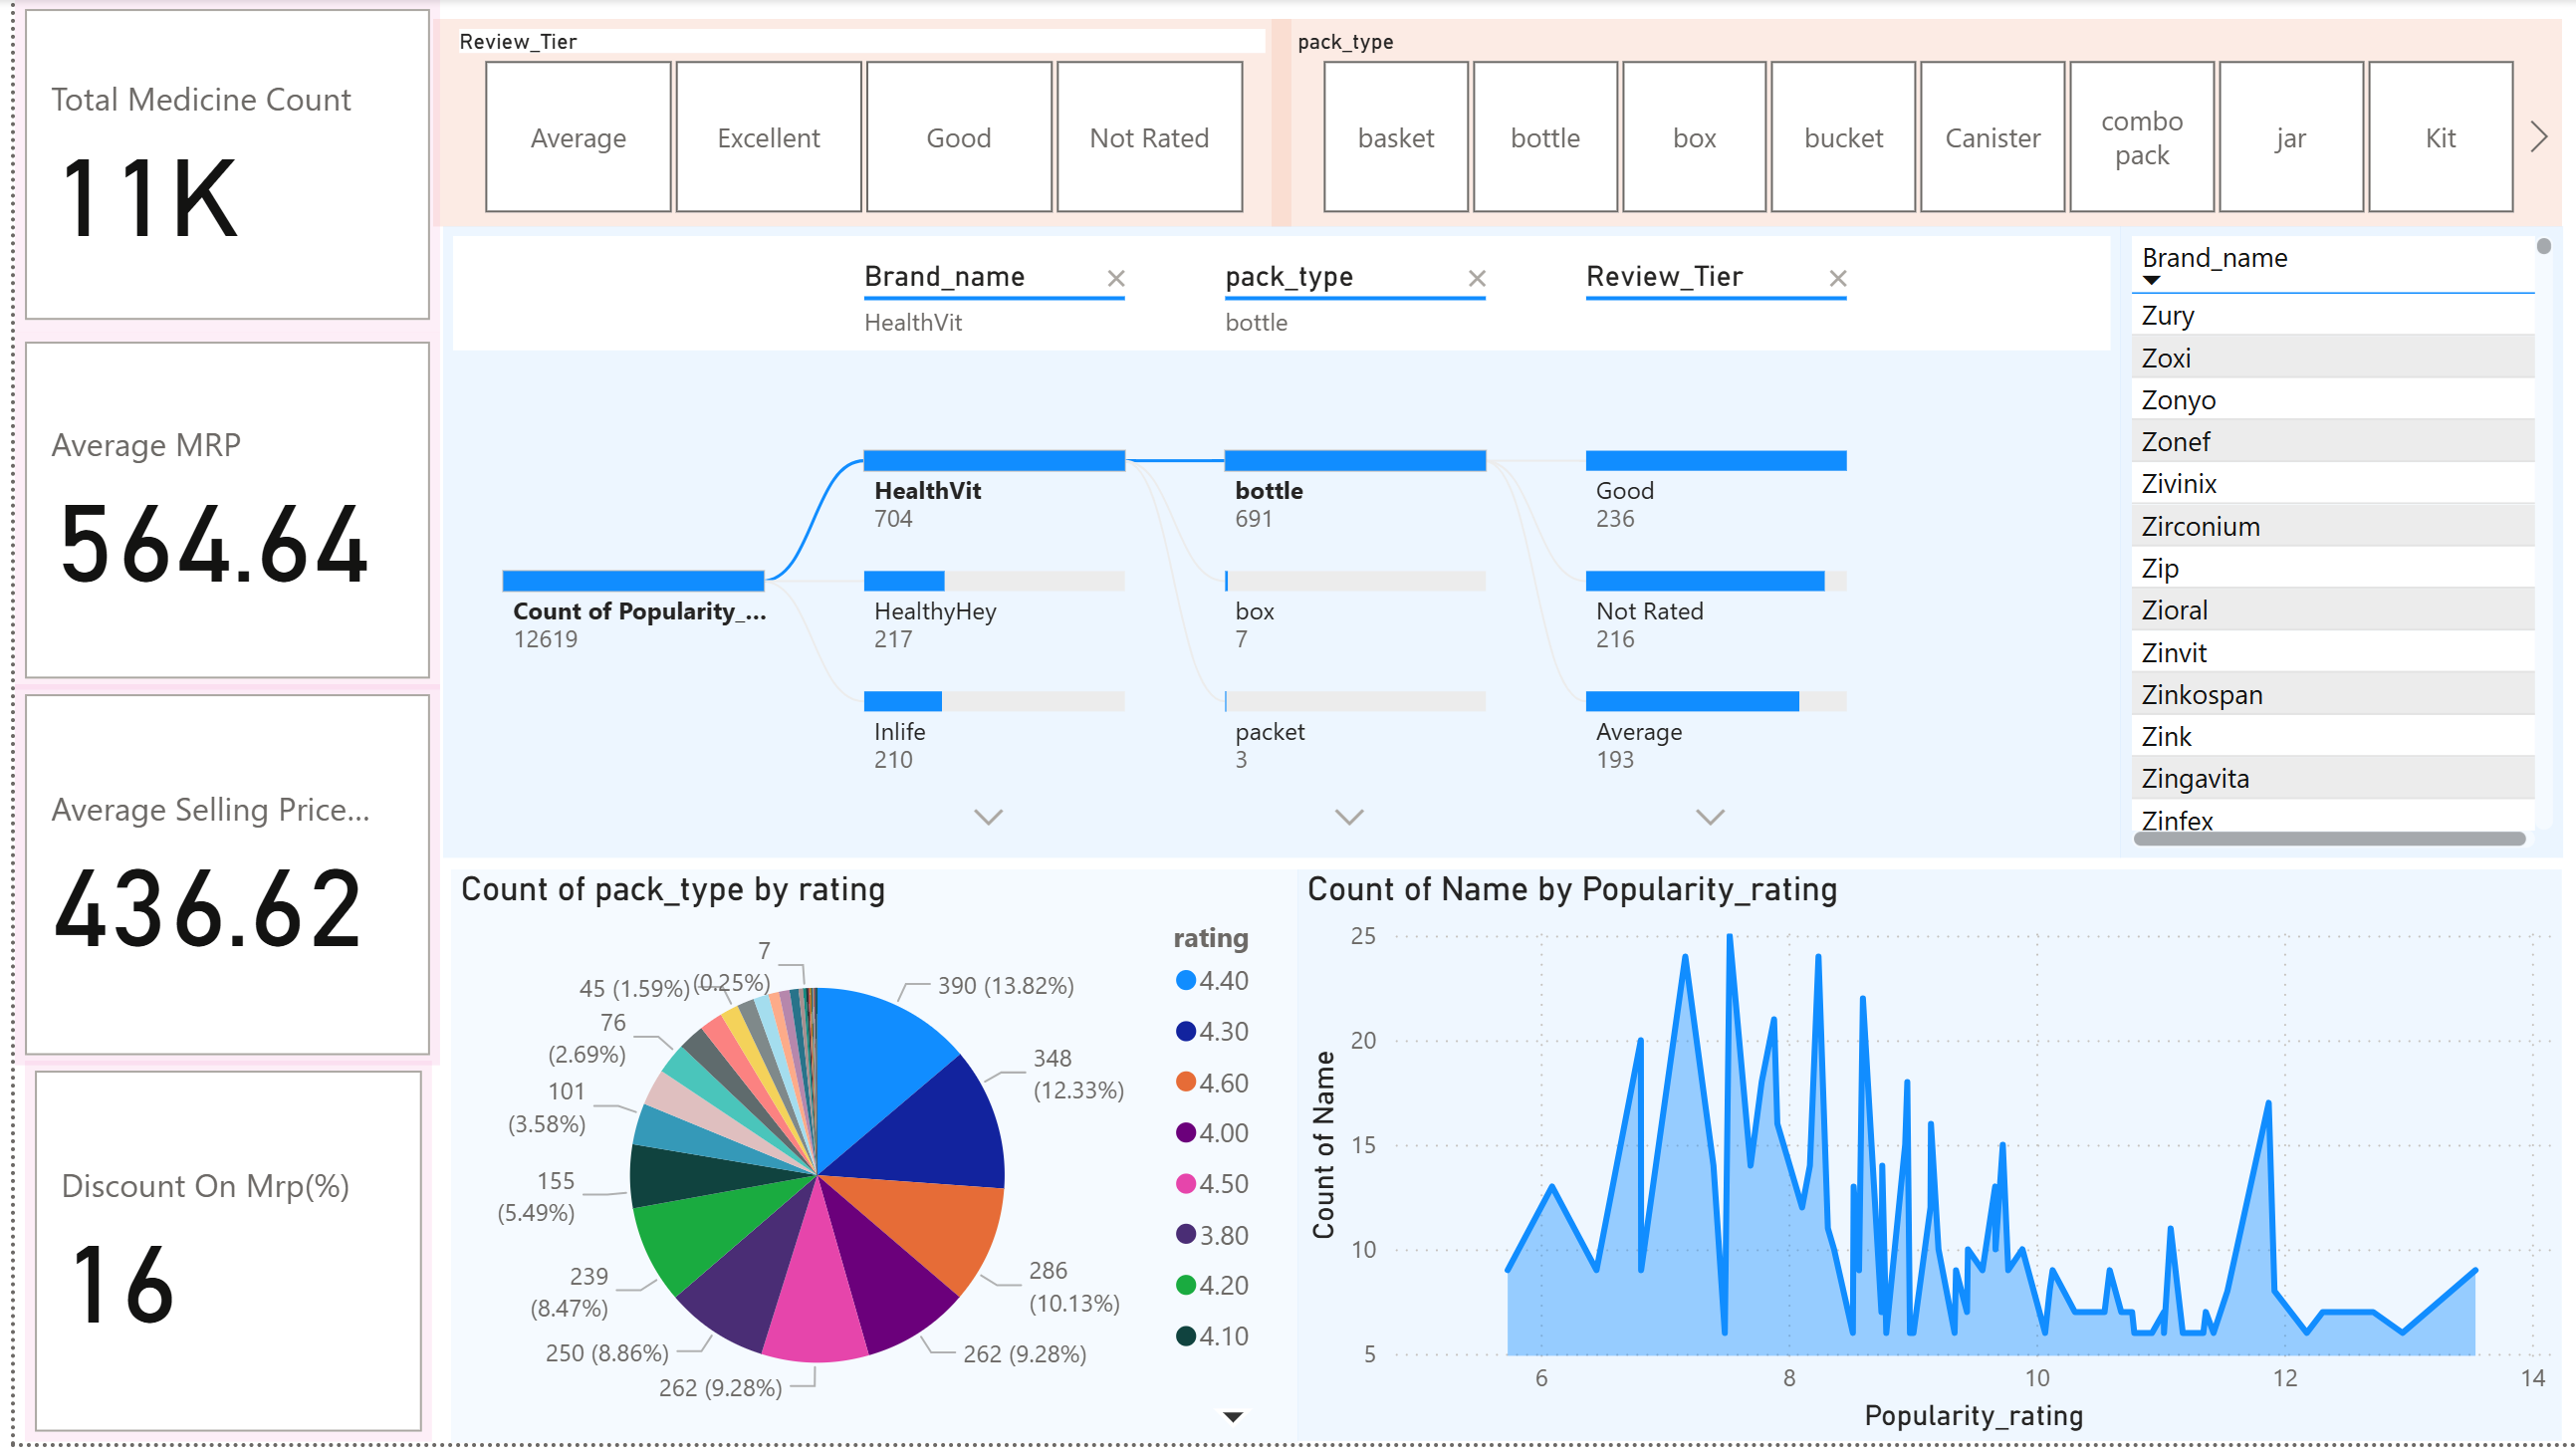

The page's visual inventory and layout, read from the dashboard file:
{"tool":"powerbi","page":{"name":"Page 1","canvas":[1280,720],"ordinal":0},"visuals":[{"type":"cardVisual","fields":{"Data":["1mgData.Average MRP"]},"box":[0,165.8,212,178.6],"z":0},{"type":"cardVisual","fields":{"Data":["1mgData.Average Selling Price new"]},"box":[0,341.8,212,190.2],"z":1000},{"type":"cardVisual","fields":{"Data":["1mgData.Discount On Mrp"]},"box":[5.1,529.5,203.1,190.2],"z":2000},{"type":"slicer","fields":{"Values":["1mgData.Review_Tier"]},"box":[208.9,9.9,427.8,103.4],"z":3000},{"type":"slicer","fields":{"Values":["1mgData.pack_type"]},"box":[626.8,9.9,643.3,103.4],"z":4000},{"type":"cardVisual","fields":{"Data":["1mgData.tm"]},"box":[0,0,212,165.8],"z":5000},{"type":"decompositionTreeVisual","fields":{"Analyze":["CountNonNull(1mgData.Popularity_rating)"],"ExplainBy":["1mgData.Brand_name","1mgData.pack_type","1mgData.Review_Tier"]},"box":[213.3,113.1,836.6,314.9],"z":6000},{"type":"pieChart","fields":{"Category":["1mgData.rating"],"Y":["CountNonNull(1mgData.pack_type)"]},"box":[217.7,434.4,422.3,285.9],"z":7000},{"type":"areaChart","fields":{"Category":["1mgData.Popularity_rating"],"Y":["Count(1mgData.Name)"]},"box":[639.6,434,630.6,285],"z":8000},{"type":"tableEx","fields":{"Values":["1mgData.Brand_name"]},"box":[1050,113.1,221,314.9],"z":9000}]}

Visuals, with their boxes in screenshot pixels (x1, y1, x2, y2), scaled from the page's 1280x720 canvas onto the 2576x1454 screenshot:
cardVisual - 1mgData.Average MRP: {"x1": 0, "y1": 335, "x2": 426, "y2": 695}
cardVisual - 1mgData.Average Selling Price new: {"x1": 0, "y1": 690, "x2": 426, "y2": 1075}
cardVisual - 1mgData.Discount On Mrp: {"x1": 10, "y1": 1070, "x2": 419, "y2": 1453}
slicer - 1mgData.Review_Tier: {"x1": 420, "y1": 20, "x2": 1282, "y2": 229}
slicer - 1mgData.pack_type: {"x1": 1262, "y1": 20, "x2": 2556, "y2": 229}
cardVisual - 1mgData.tm: {"x1": 0, "y1": 0, "x2": 426, "y2": 335}
decompositionTreeVisual - CountNonNull(1mgData.Popularity_rating) x 1mgData.Brand_name: {"x1": 429, "y1": 228, "x2": 2113, "y2": 864}
pieChart - 1mgData.rating x CountNonNull(1mgData.pack_type): {"x1": 438, "y1": 877, "x2": 1288, "y2": 1453}
areaChart - 1mgData.Popularity_rating x Count(1mgData.Name): {"x1": 1288, "y1": 876, "x2": 2556, "y2": 1452}
tableEx - 1mgData.Brand_name: {"x1": 2113, "y1": 228, "x2": 2558, "y2": 864}
